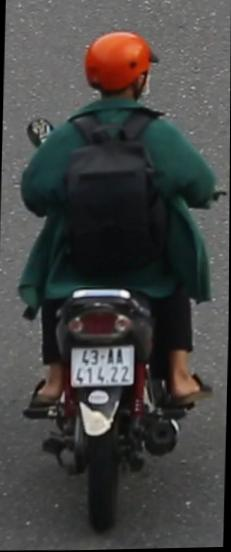LP: (65, 339, 140, 393)
helmet: (75, 18, 163, 116)
